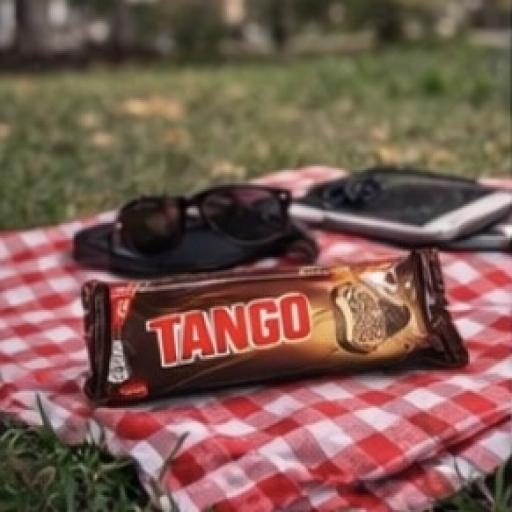tango: (60, 208, 490, 426)
